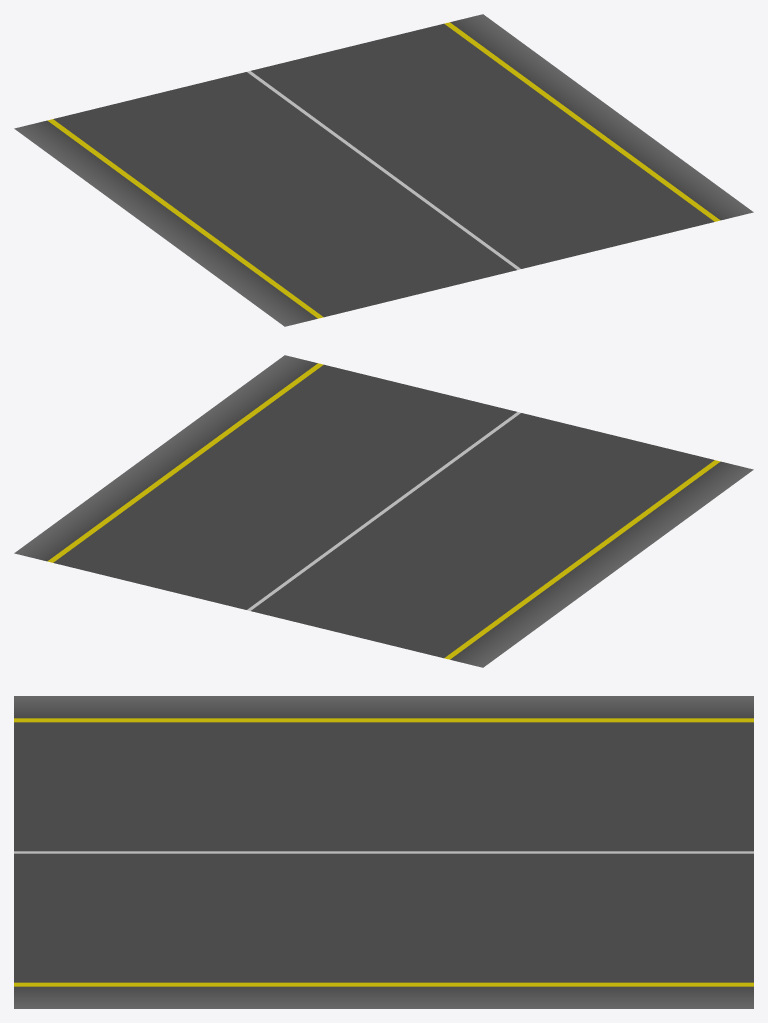
File: road_1_ex.fbx
3 renders of one model, top to bottom at view 1: azimuth 30°, elevation 25°; view 2: azimuth 150°, elevation 25°; view 3: azimuth 270°, elevation 25°, orthographic. The views are drawn at different scales.
Parts seen in each view (by area): view 1: road_1_ex; view 2: road_1_ex; view 3: road_1_ex.
Boxes of the visible parts, bbox=[...] form: road_1_ex: bbox=[14, 14, 753, 326]; road_1_ex: bbox=[14, 355, 753, 667]; road_1_ex: bbox=[14, 696, 753, 1008].
Size of the model in its own units: 12 by 12 by 0.
